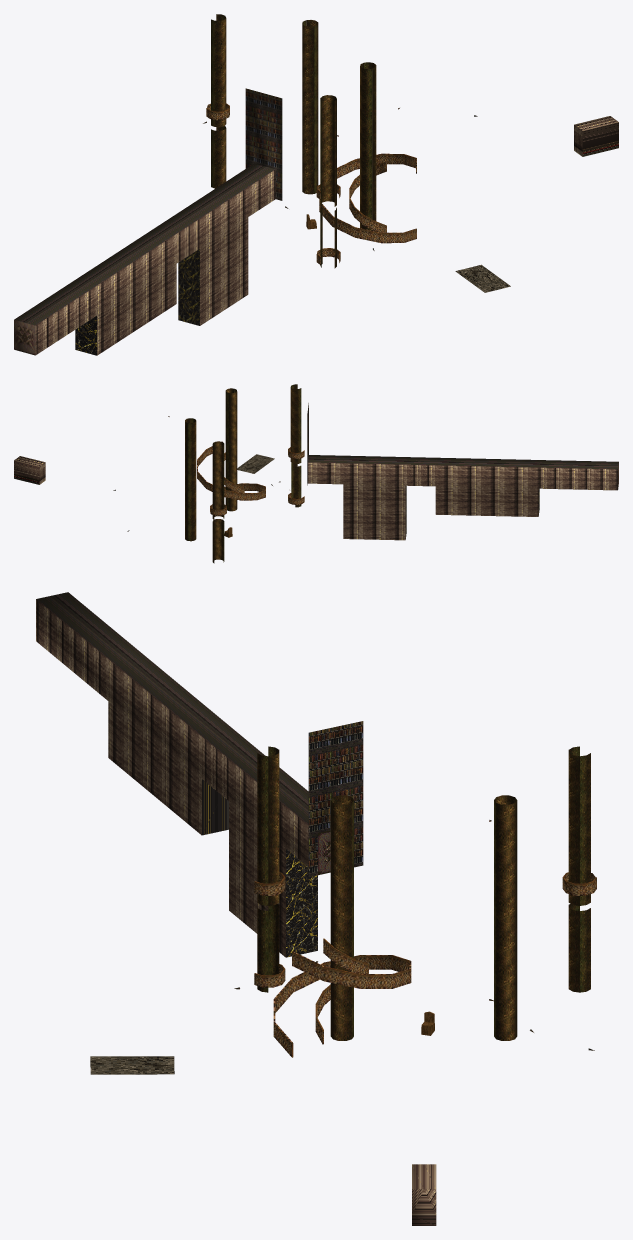
Rendered from Library.obj.
The picture shows the model from 3 angles, top to bottom: view 1: azimuth 30°, elevation 25°; view 2: azimuth 150°, elevation 25°; view 3: azimuth 270°, elevation 25°; orthographic projection. The views are drawn at different scales.
Parts seen in each view (by area): view 1: #Room0#_Room0_Wall., #Room0#_Room0_Books_Case#SFX_A, #Room0#_Pipe04_MetalPipe#SFX_2, #Room0#_Pipe01_MetalPipe#SFX_2, #Room0#_Pipe03_MetalPipe#SFX_2, #Room0#_RailingSpiral02_MetalRailling#SFX_2#WALLPROPERTY_NO_LEDG, #Room0#_Room0_BlackMarble#SFX_2, #Room1#_Room1_Wall., #Room0#_Exit#Exit01_Dark_Dirt_Rubble#SFX_2, #Room0#_Room0_fakeWall#SFX_2#IgnoreActors#BackfaceCulling; view 2: #Room0#_Room0_Wall., #Room0#_Pipe04_MetalPipe#SFX_2, #Room0#_Room0_Books_Case#SFX_A, #Room0#_Pipe01_MetalPipe#SFX_2, #Room0#_Pipe03_MetalPipe#SFX_2, #Room0#_RailingSpiral02_MetalRailling#SFX_2#WALLPROPERTY_NO_LEDG, #Room1#_Room1_Wall., #Room0#_Exit#Exit01_Dark_Dirt_Rubble#SFX_2; view 3: #Room0#_Room0_Wall., #Room0#_Room0_Books_Case#SFX_A, #Room0#_Pipe04_MetalPipe#SFX_2, #Room0#_Pipe01_MetalPipe#SFX_2, #Room0#_Pipe03_MetalPipe#SFX_2, #Room0#_RailingSpiral02_MetalRailling#SFX_2#WALLPROPERTY_NO_LEDG, #Room0#_Room0_BlackMarble#SFX_2, #Room0#_Exit#Exit01_Dark_Dirt_Rubble#SFX_2, #Room1#_Room1_Wall..
Part boxes in pixels (left/top/right/bottom): #Room0#_Room0_Wall.: left=35, top=169, right=275, bottom=355; #Room0#_Room0_Books_Case#SFX_A: left=14, top=88, right=282, bottom=325; #Room0#_Pipe04_MetalPipe#SFX_2: left=211, top=14, right=336, bottom=268; #Room0#_Pipe01_MetalPipe#SFX_2: left=302, top=20, right=318, bottom=194; #Room0#_Pipe03_MetalPipe#SFX_2: left=360, top=62, right=376, bottom=231; #Room0#_RailingSpiral02_MetalRailling#SFX_2#WALLPROPERTY_NO_LEDG: left=319, top=153, right=416, bottom=243; #Room0#_Room0_BlackMarble#SFX_2: left=75, top=249, right=199, bottom=355; #Room1#_Room1_Wall.: left=574, top=116, right=618, bottom=149; #Room0#_Exit#Exit01_Dark_Dirt_Rubble#SFX_2: left=455, top=264, right=510, bottom=292; #Room0#_Room0_fakeWall#SFX_2#IgnoreActors#BackfaceCulling: left=14, top=320, right=35, bottom=355; #Room0#_Room0_Wall.: left=307, top=462, right=617, bottom=540; #Room0#_Pipe04_MetalPipe#SFX_2: left=212, top=384, right=301, bottom=563; #Room0#_Room0_Books_Case#SFX_A: left=307, top=403, right=618, bottom=485; #Room0#_Pipe01_MetalPipe#SFX_2: left=185, top=418, right=196, bottom=541; #Room0#_Pipe03_MetalPipe#SFX_2: left=225, top=388, right=237, bottom=511; #Room0#_RailingSpiral02_MetalRailling#SFX_2#WALLPROPERTY_NO_LEDG: left=197, top=441, right=265, bottom=500; #Room1#_Room1_Wall.: left=14, top=456, right=45, bottom=479; #Room0#_Exit#Exit01_Dark_Dirt_Rubble#SFX_2: left=237, top=454, right=274, bottom=473; #Room0#_Room0_Wall.: left=36, top=599, right=308, bottom=957; #Room0#_Room0_Books_Case#SFX_A: left=36, top=592, right=363, bottom=876; #Room0#_Pipe04_MetalPipe#SFX_2: left=257, top=746, right=590, bottom=992; #Room0#_Pipe01_MetalPipe#SFX_2: left=494, top=795, right=517, bottom=1040; #Room0#_Pipe03_MetalPipe#SFX_2: left=330, top=795, right=353, bottom=1040; #Room0#_RailingSpiral02_MetalRailling#SFX_2#WALLPROPERTY_NO_LEDG: left=273, top=938, right=411, bottom=1057; #Room0#_Room0_BlackMarble#SFX_2: left=202, top=779, right=317, bottom=957; #Room0#_Exit#Exit01_Dark_Dirt_Rubble#SFX_2: left=90, top=1056, right=174, bottom=1074; #Room1#_Room1_Wall.: left=412, top=1164, right=436, bottom=1225.
Size of what is drawn, in the model's own units: 2919 by 701 by 1385.
9 materials, 9 textured.
